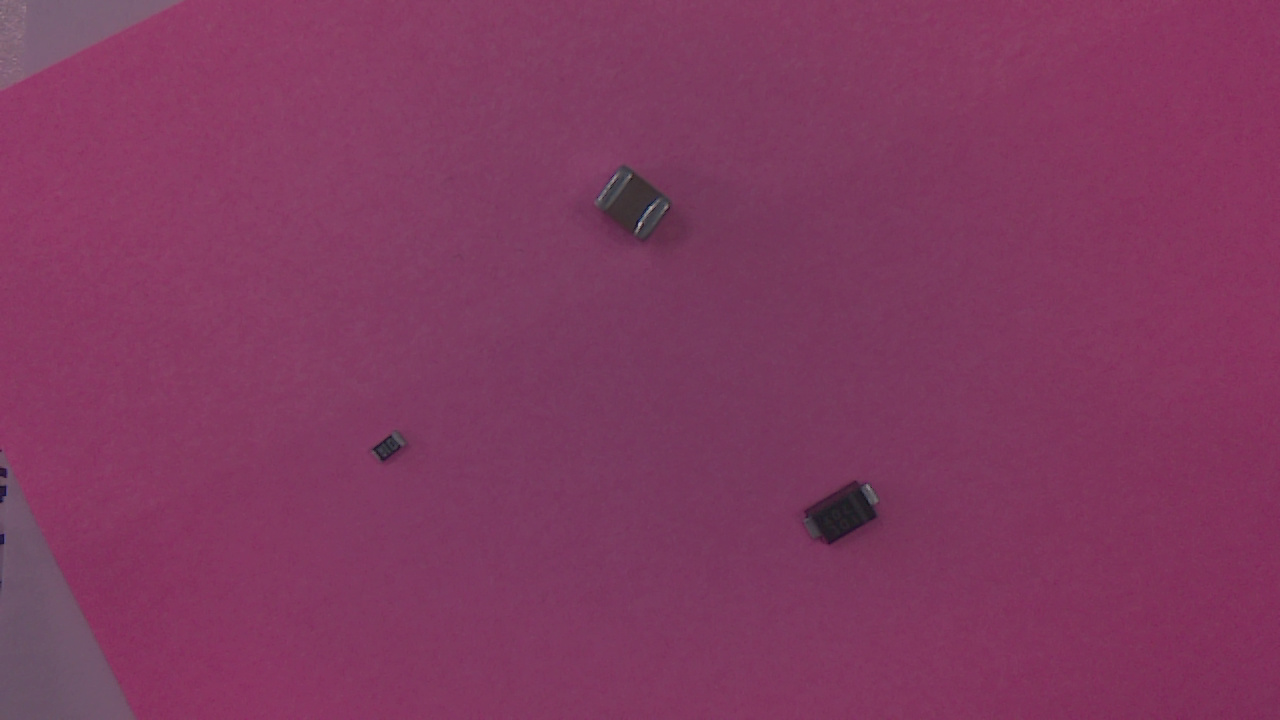Condensator: (596, 173, 679, 245)
Diode: (805, 482, 886, 551)
Resistor: (377, 433, 414, 473)
